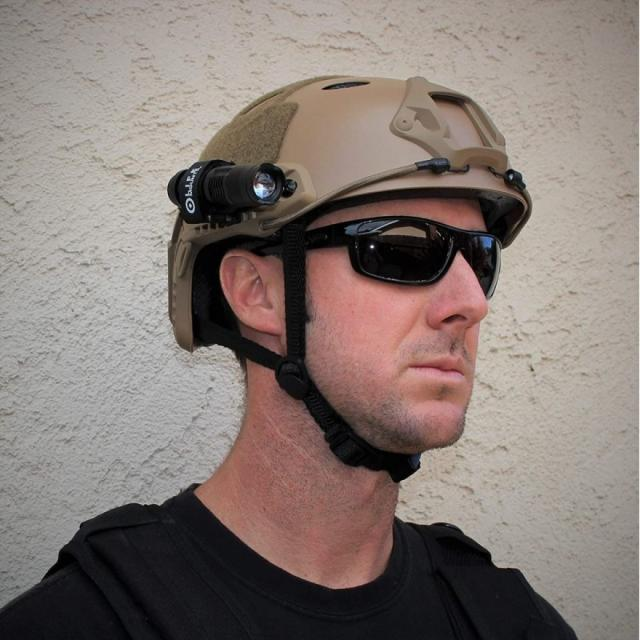illegal_helmet: (157, 66, 538, 494)
